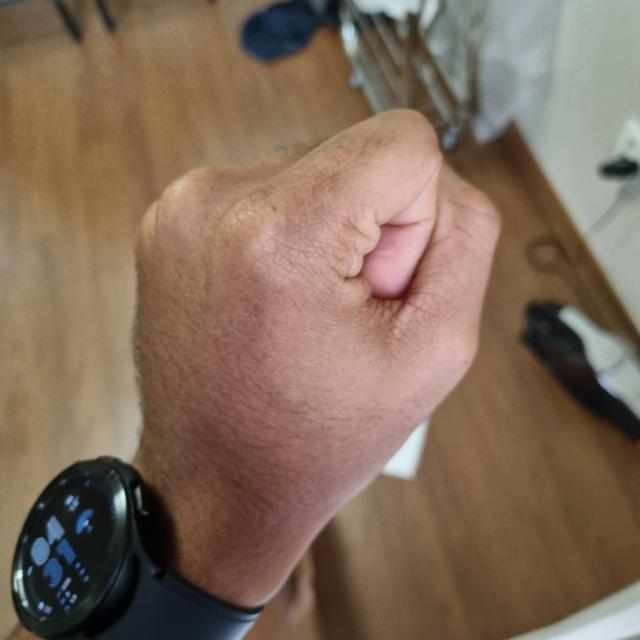Rock: (135, 109, 500, 575)
